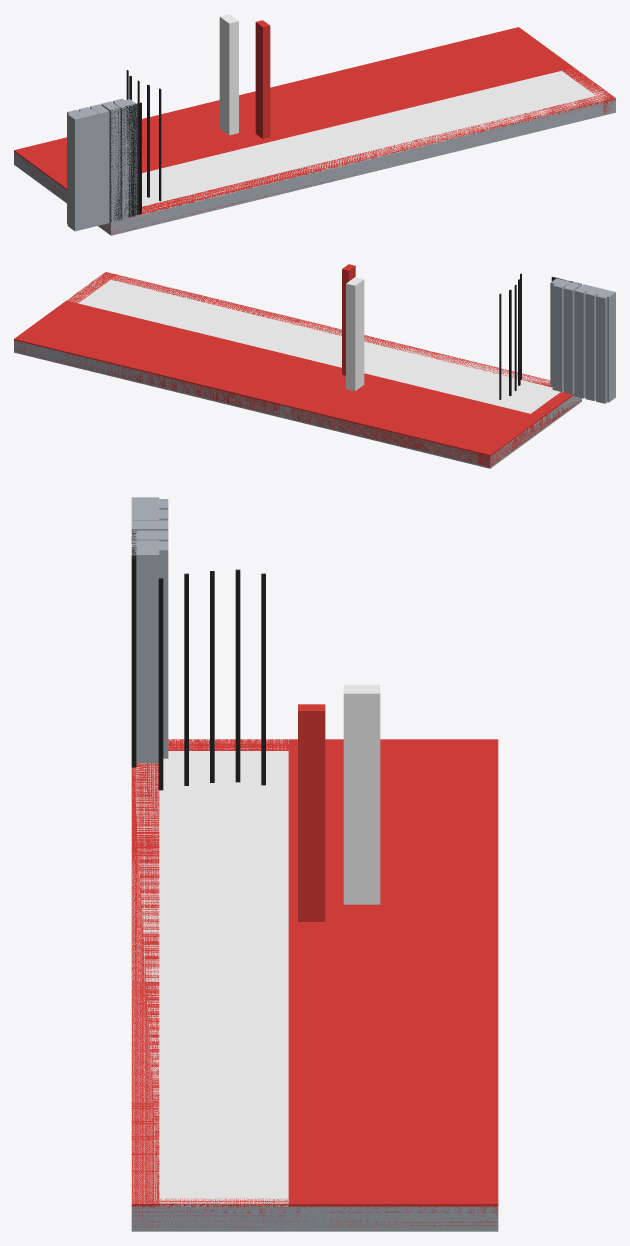
Rendered from Bảng hiệu alu chữ nổi mica.obj.
3 views of the same model, one above another, from view 1: azimuth 30°, elevation 25°; view 2: azimuth 150°, elevation 25°; view 3: azimuth 270°, elevation 25° (orthographic). The views are drawn at different scales.
Visible parts, largest first — view 1: alured, aluwhite, khoi, vienalured, phuden, hafelewhite, dangtuanred; view 2: alured, aluwhite, khoi, vienalured, hafelewhite, phuden, dangtuanred; view 3: alured, aluwhite, vienalured, khoi, hafelewhite, phuden, dangtuanred.
Part boxes in pixels (x1,y1,x2,y2): alured: (14, 27, 573, 189); aluwhite: (113, 68, 614, 221); khoi: (14, 98, 615, 235); vienalured: (14, 27, 615, 233); phuden: (110, 70, 161, 221); hafelewhite: (219, 14, 238, 135); dangtuanred: (255, 20, 270, 138); alured: (14, 300, 536, 455); aluwhite: (67, 272, 563, 413); khoi: (14, 278, 615, 468); vienalured: (14, 272, 581, 467); hafelewhite: (346, 277, 364, 391); phuden: (499, 273, 580, 399); dangtuanred: (342, 264, 355, 375); alured: (288, 739, 498, 1206); aluwhite: (131, 739, 288, 1206); vienalured: (131, 739, 498, 1228); khoi: (131, 497, 498, 1231); hafelewhite: (343, 684, 380, 904); phuden: (131, 530, 265, 790); dangtuanred: (298, 704, 325, 921).
Size of the model in its own units: 1.29 by 0.292 by 0.4.
